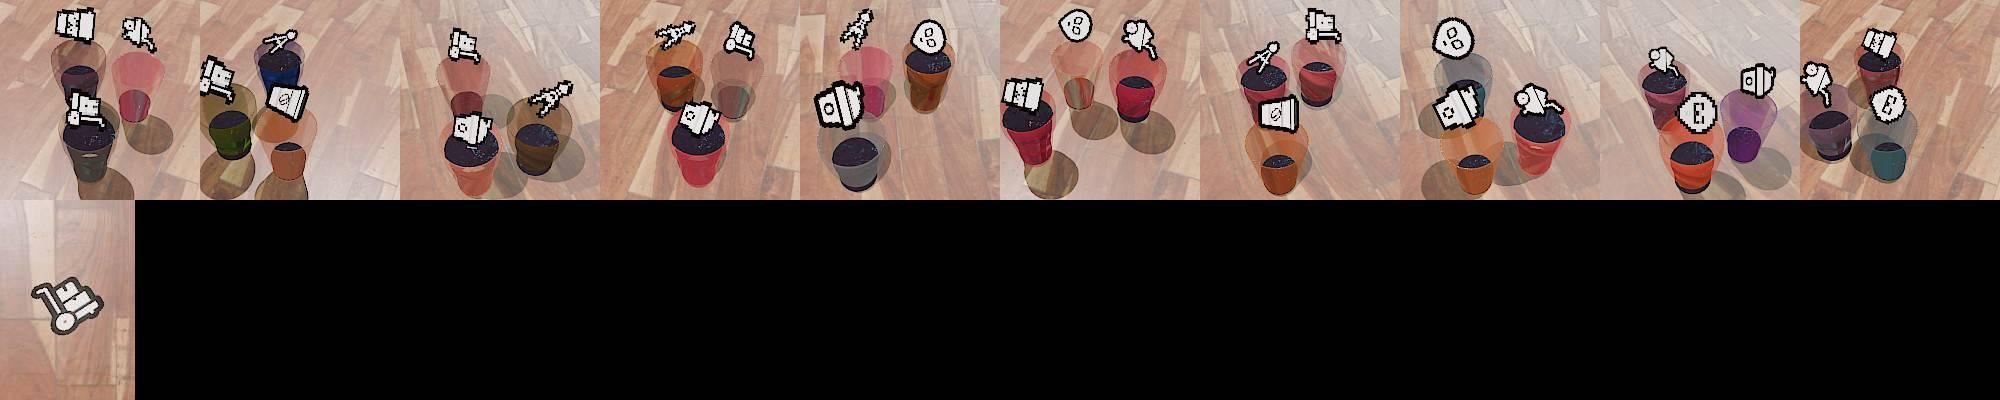icon: (31, 276, 105, 336), (814, 79, 865, 130), (1431, 81, 1483, 131), (1433, 16, 1476, 60), (264, 81, 310, 122), (1677, 90, 1718, 135), (529, 78, 575, 117), (1000, 74, 1044, 114), (198, 54, 236, 100), (676, 99, 721, 136), (1514, 81, 1559, 118), (65, 90, 107, 128), (1121, 17, 1159, 59), (1799, 60, 1834, 105), (1868, 86, 1907, 126), (1258, 94, 1299, 132), (54, 7, 97, 43), (909, 19, 948, 57), (451, 112, 492, 148), (839, 9, 874, 51), (654, 18, 698, 51), (1739, 62, 1776, 101), (723, 19, 758, 60), (1304, 6, 1340, 44), (121, 17, 157, 54), (1243, 40, 1281, 75), (1057, 7, 1093, 43), (447, 26, 480, 64), (1862, 28, 1900, 61), (261, 28, 298, 54), (1647, 46, 1677, 75)
